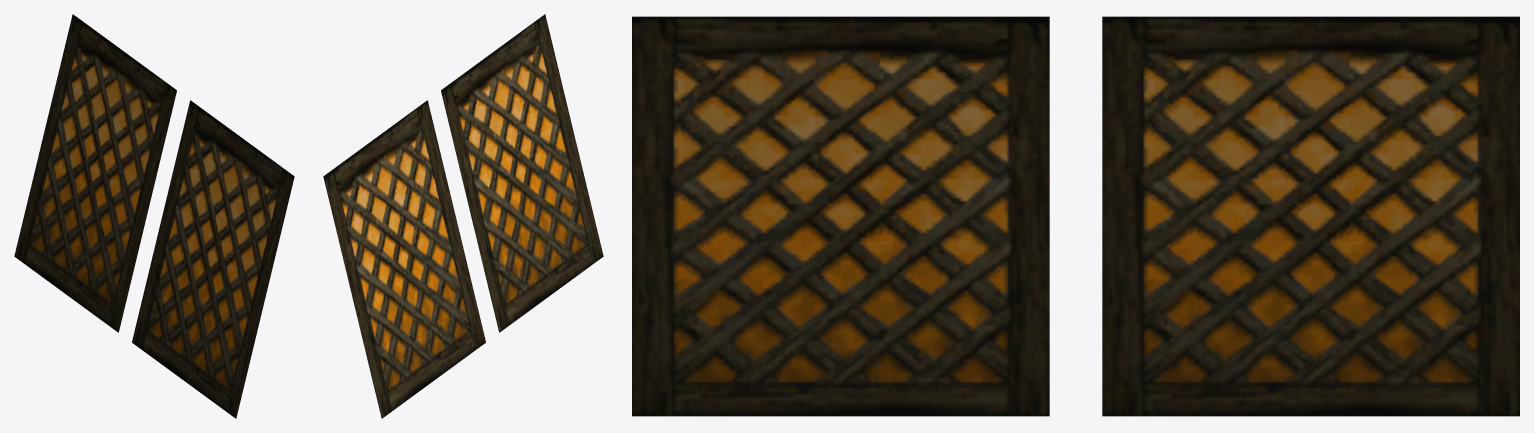
File: LAKETOWN_EXTERIOR_PS_LT_WINDOWS2440.fbx
3 renders of one model, left to right at view 1: azimuth 30°, elevation 25°; view 2: azimuth 150°, elevation 25°; view 3: azimuth 270°, elevation 25°, orthographic. The views are drawn at different scales.
Visible parts, largest first — view 1: LAKETOWN_EXTERIOR_PS_LT_WINDOWS2440; view 2: LAKETOWN_EXTERIOR_PS_LT_WINDOWS2440; view 3: LAKETOWN_EXTERIOR_PS_LT_WINDOWS2440.
Part boxes in pixels (<box>): LAKETOWN_EXTERIOR_PS_LT_WINDOWS2440: <box>14,14,294,418</box>; LAKETOWN_EXTERIOR_PS_LT_WINDOWS2440: <box>323,14,603,418</box>; LAKETOWN_EXTERIOR_PS_LT_WINDOWS2440: <box>632,16,1519,416</box>.
Size of the model in its own units: 3391 by 12654 by 22299.
Materials: 1 (1 with a texture image).
